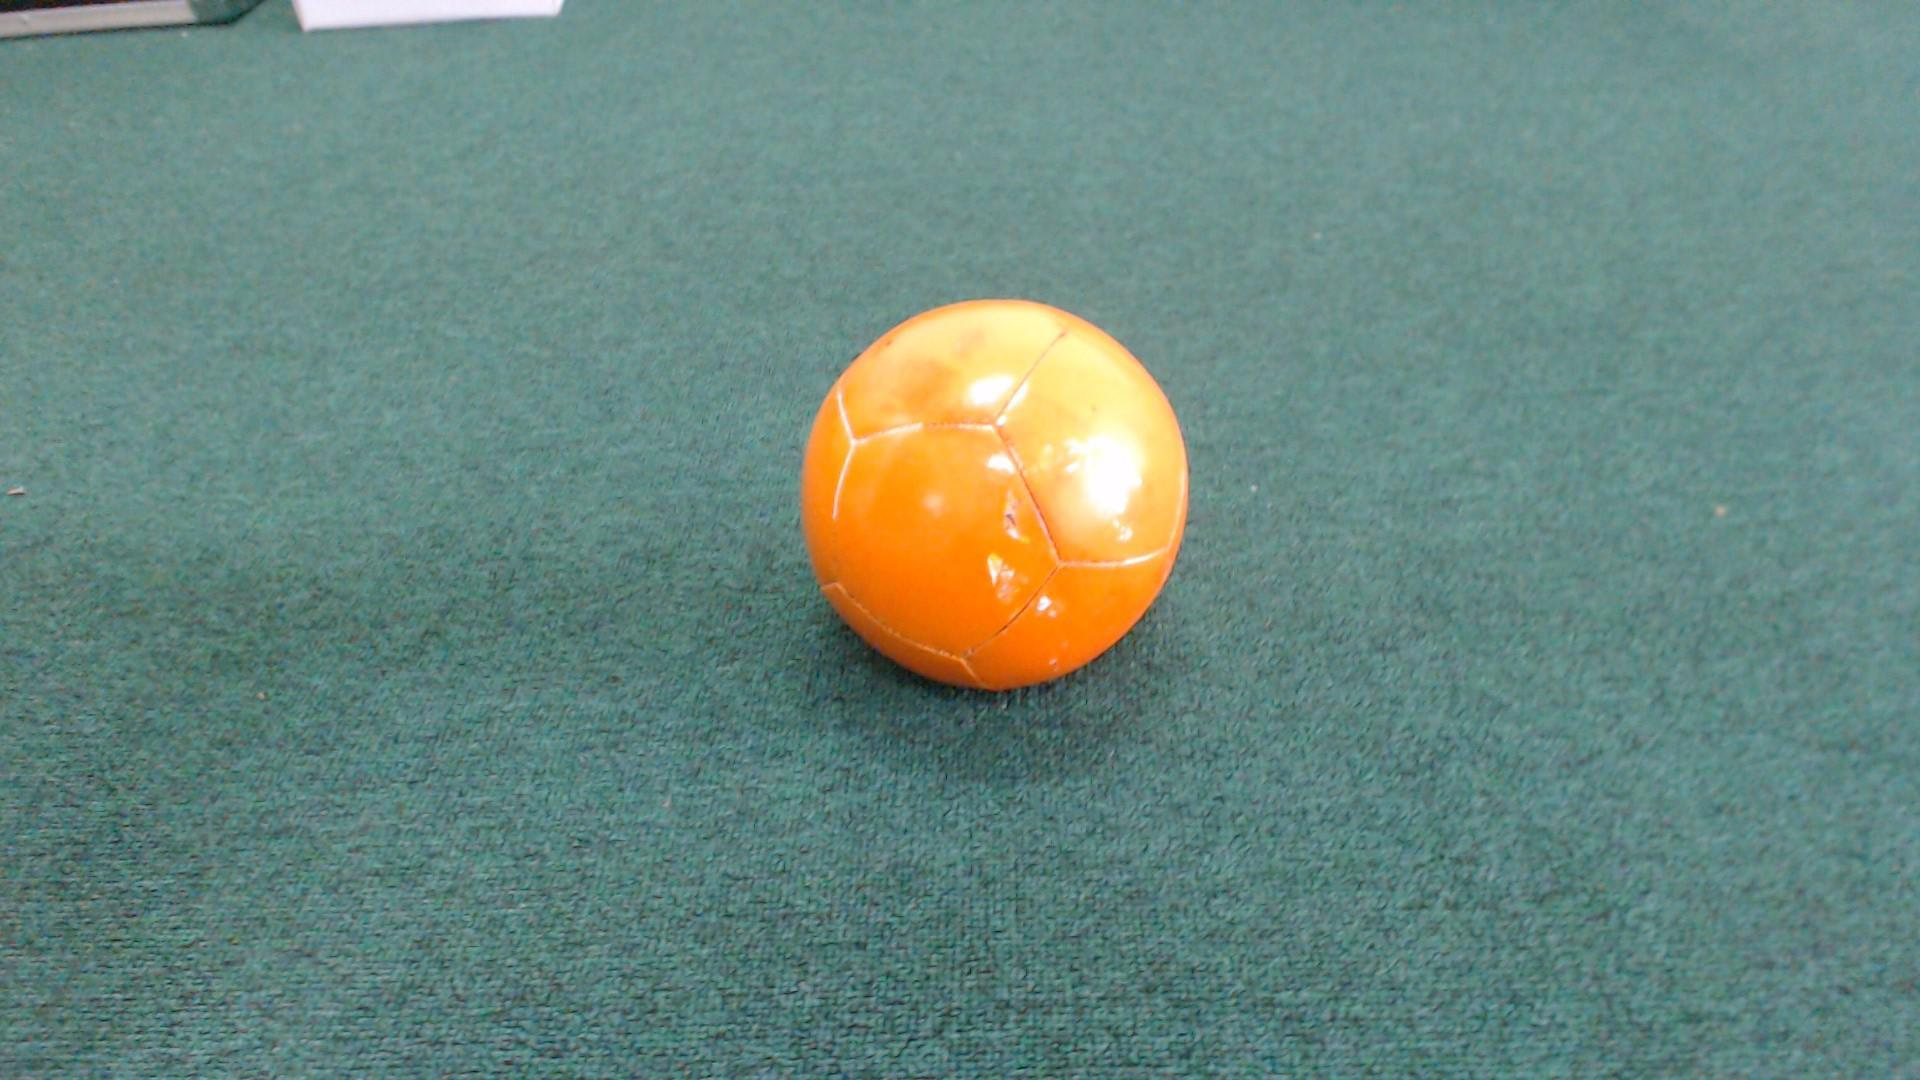bola: (767, 287, 1205, 727)
